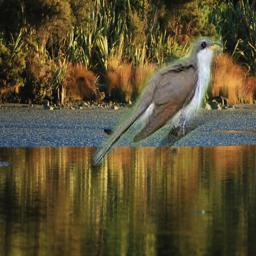Cuckoo: (92, 36, 223, 166)
